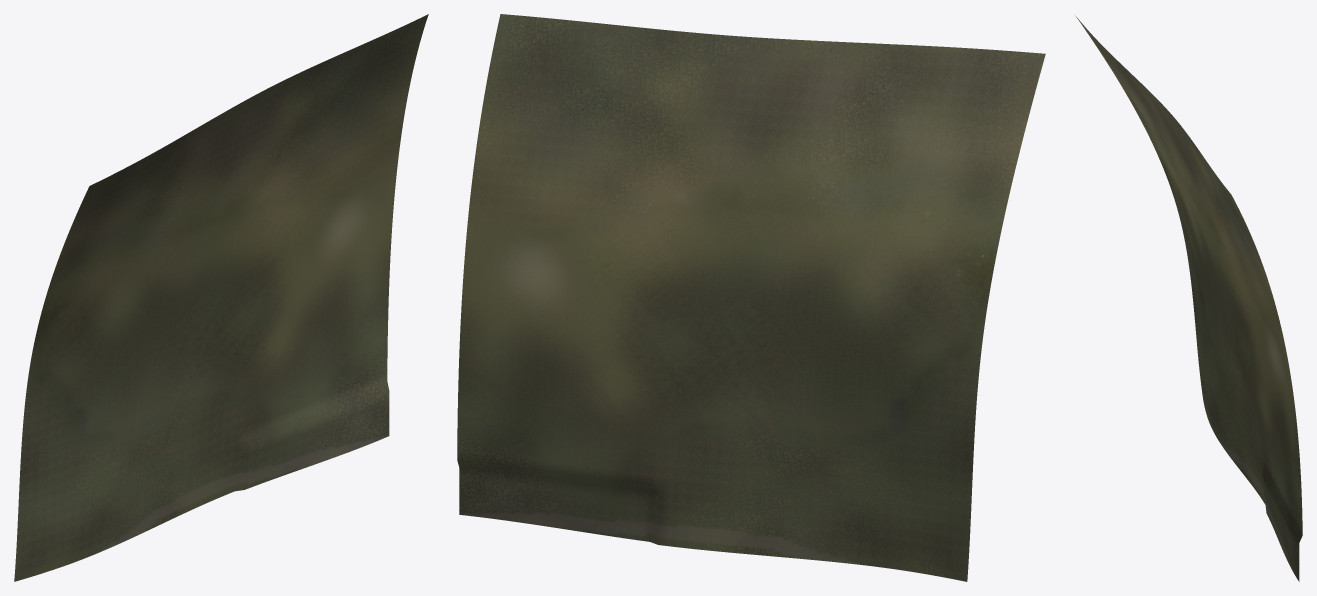
Rendered from ground_core_02_06.obj.
3 renders of one model, left to right at view 1: azimuth 30°, elevation 25°; view 2: azimuth 150°, elevation 25°; view 3: azimuth 270°, elevation 25°, orthographic. The views are drawn at different scales.
Visible parts, largest first — view 1: ground_core_02_06; view 2: ground_core_02_06; view 3: ground_core_02_06.
Boxes of the visible parts, x1,y1,x2,y2 form: ground_core_02_06: [14, 14, 428, 581]; ground_core_02_06: [457, 14, 1045, 581]; ground_core_02_06: [1076, 16, 1302, 581].
Size of the model in its own units: 50 by 50 by 26.73.
Materials: 1 (1 with a texture image).
